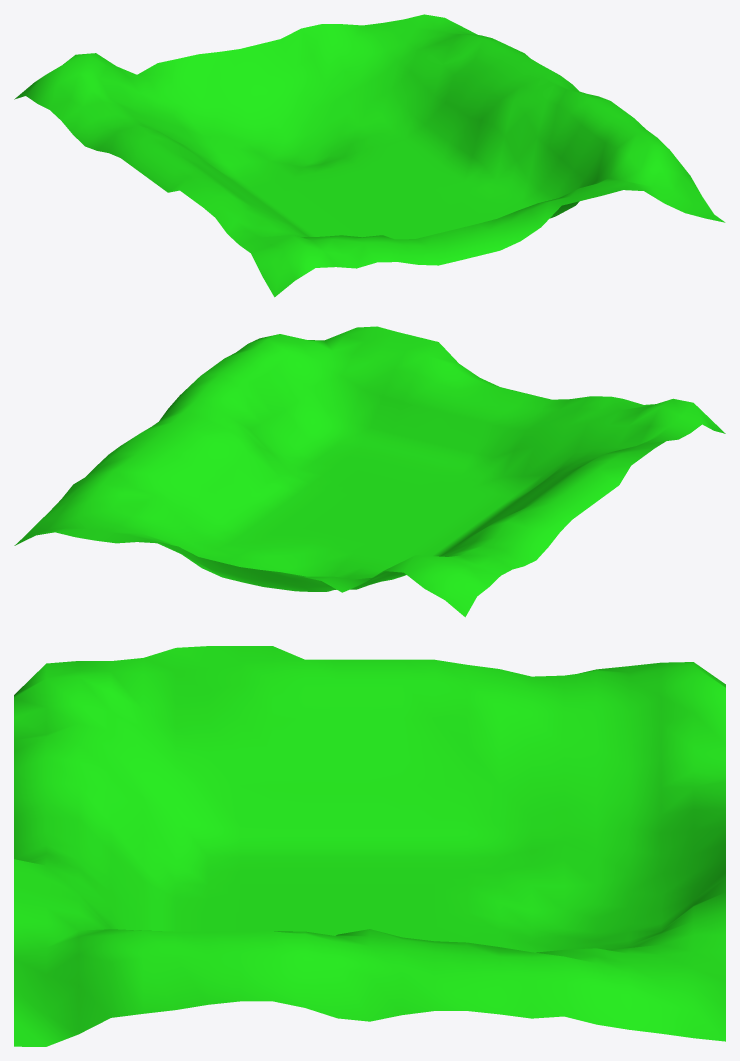
Rendered from practise_background_col.glb.
The picture shows the model from 3 angles, top to bottom: view 1: azimuth 30°, elevation 25°; view 2: azimuth 150°, elevation 25°; view 3: azimuth 270°, elevation 25°; orthographic projection. The views are drawn at different scales.
Visible parts, largest first — view 1: Plane -col; view 2: Plane -col; view 3: Plane -col.
Part boxes in pixels (left/top/right/bottom): Plane -col: left=14, top=14, right=725, bottom=297; Plane -col: left=14, top=326, right=725, bottom=617; Plane -col: left=14, top=646, right=725, bottom=1046.
Bounding box in the file's own units: 30 × 6.68 × 30.
